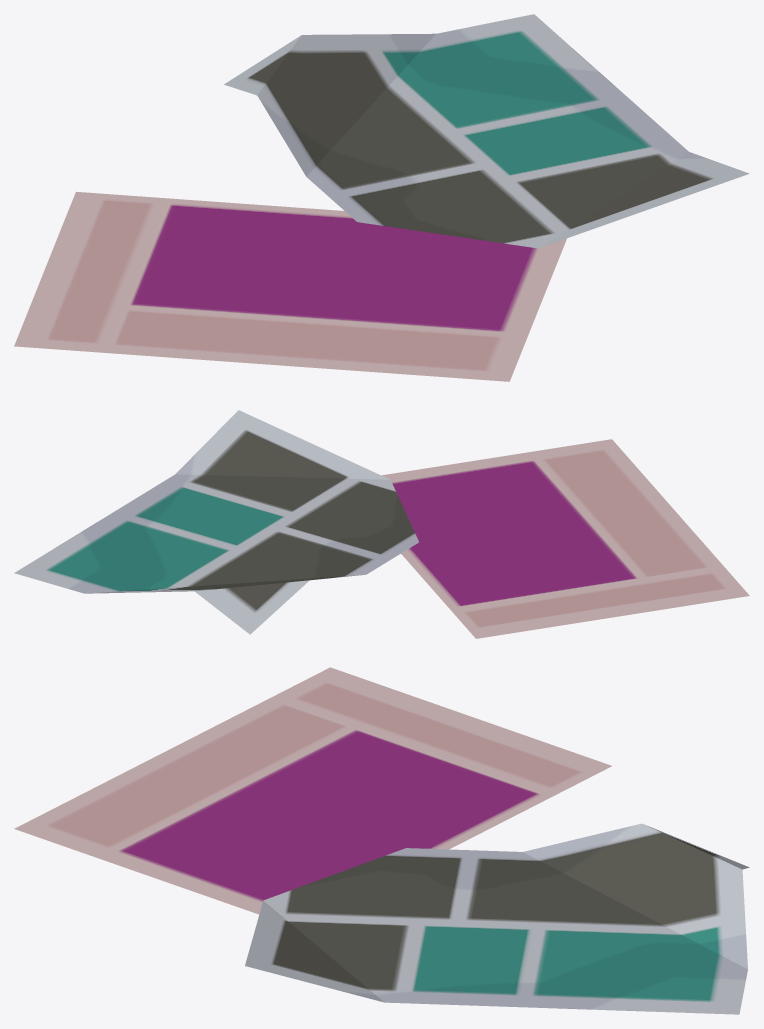
File: SM_Prop_Junk_Paper_02.fbx
3 renders of one model, top to bottom at view 1: azimuth 30°, elevation 25°; view 2: azimuth 150°, elevation 25°; view 3: azimuth 270°, elevation 25°, orthographic. The views are drawn at different scales.
Visible parts, largest first — view 1: SM_Prop_Junk_Paper_02; view 2: SM_Prop_Junk_Paper_02; view 3: SM_Prop_Junk_Paper_02.
Boxes of the visible parts, bbox=[...] form: SM_Prop_Junk_Paper_02: bbox=[14, 14, 749, 381]; SM_Prop_Junk_Paper_02: bbox=[14, 410, 749, 638]; SM_Prop_Junk_Paper_02: bbox=[14, 667, 749, 1014].
Size of the model in its own units: 54.01 by 2.66 by 47.94.
